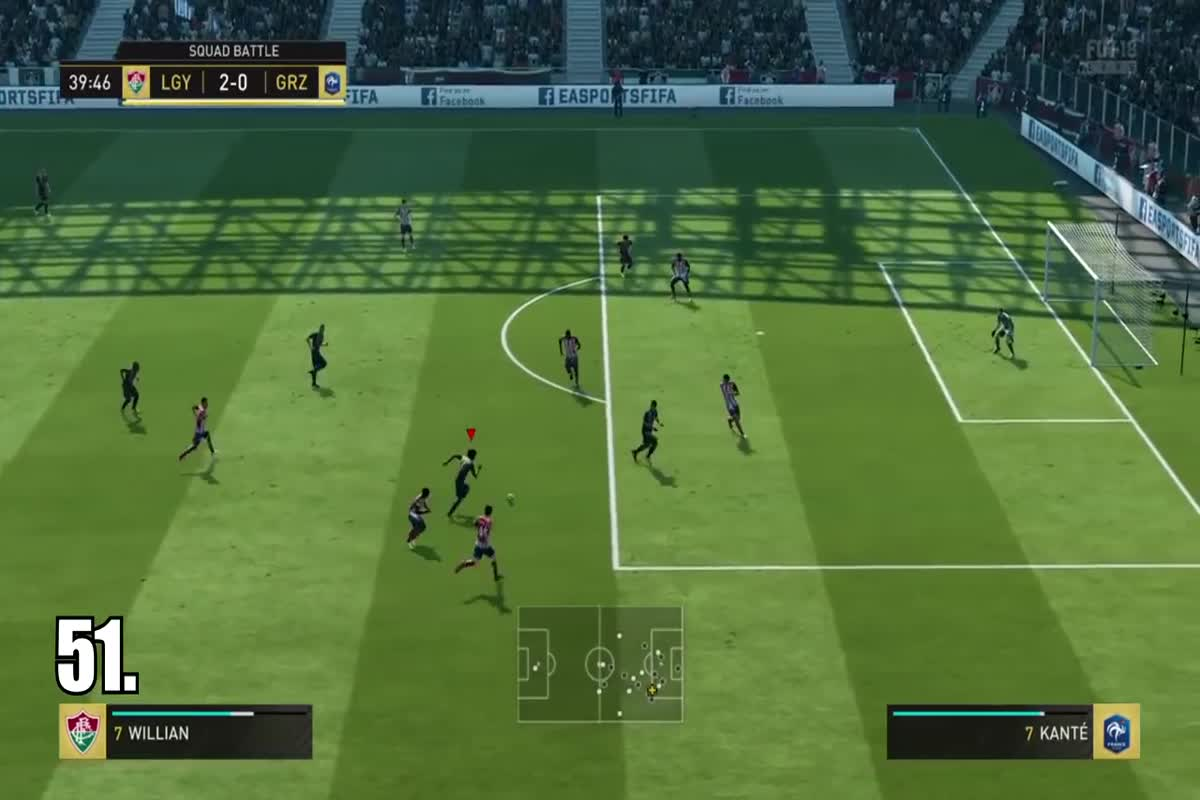ball: (502, 486, 523, 509)
